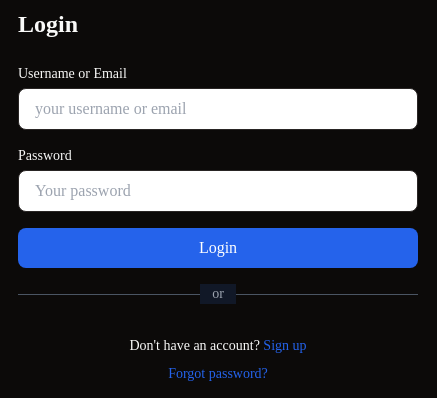
Test case: LoginPage › disables button and shows loading text during submission
Type "testuser" into the field with placeholder "your username or email" at (218, 109), box [18,88,418,130]
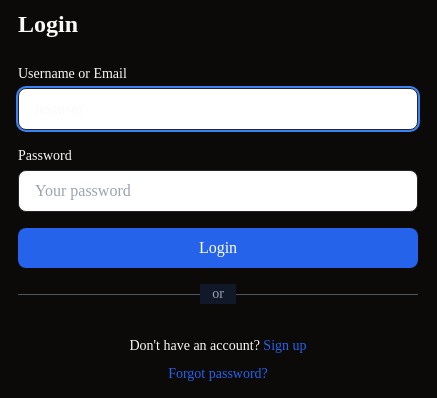
Type "Password1" into the password field with placeholder "Your password" at (218, 191), box [18,170,418,212]
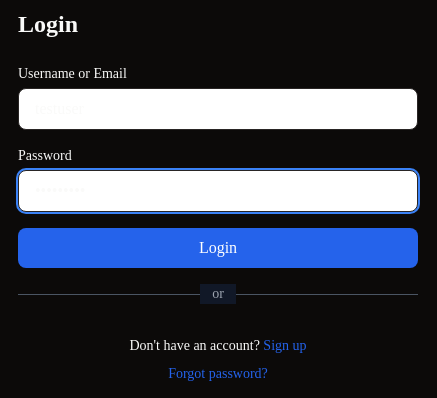
Click the button "Login" at (218, 248), box [18,228,418,268]
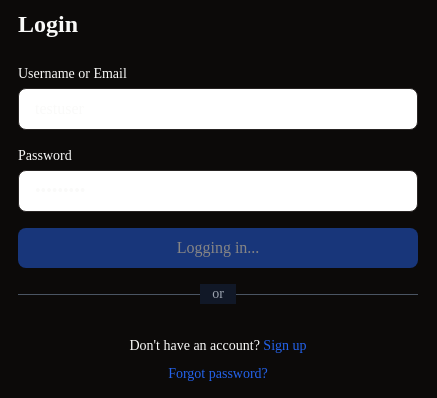
Now the button "Logging in..." is disabled, box [18,228,418,268]
